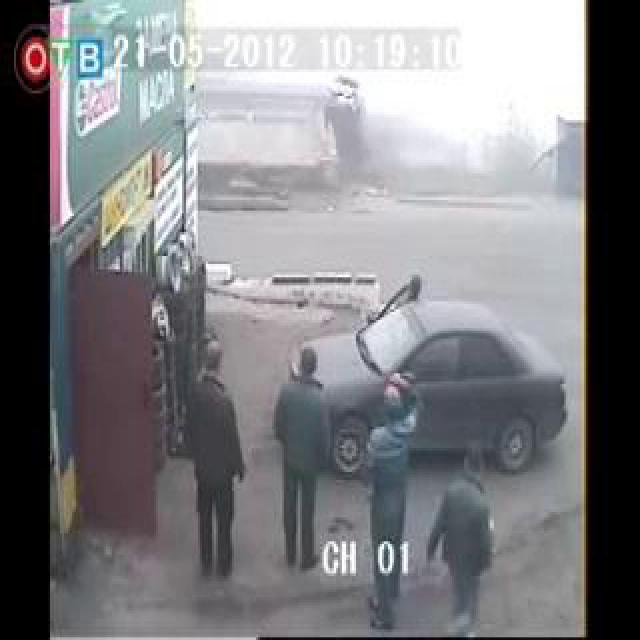road accidents: (214, 0, 543, 640)
